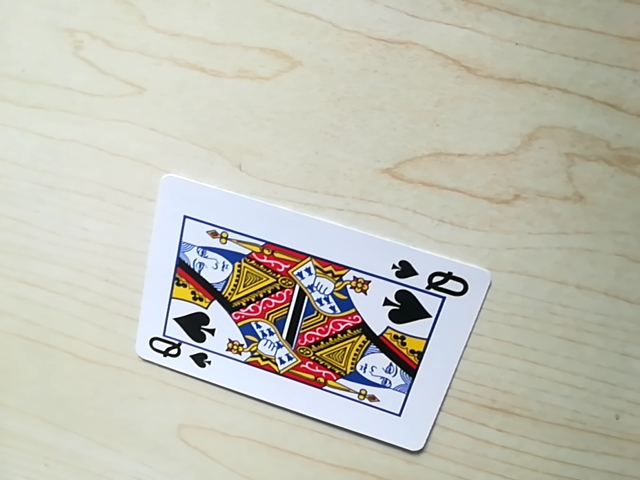ht q: (392, 260, 470, 294), (140, 334, 207, 371)
